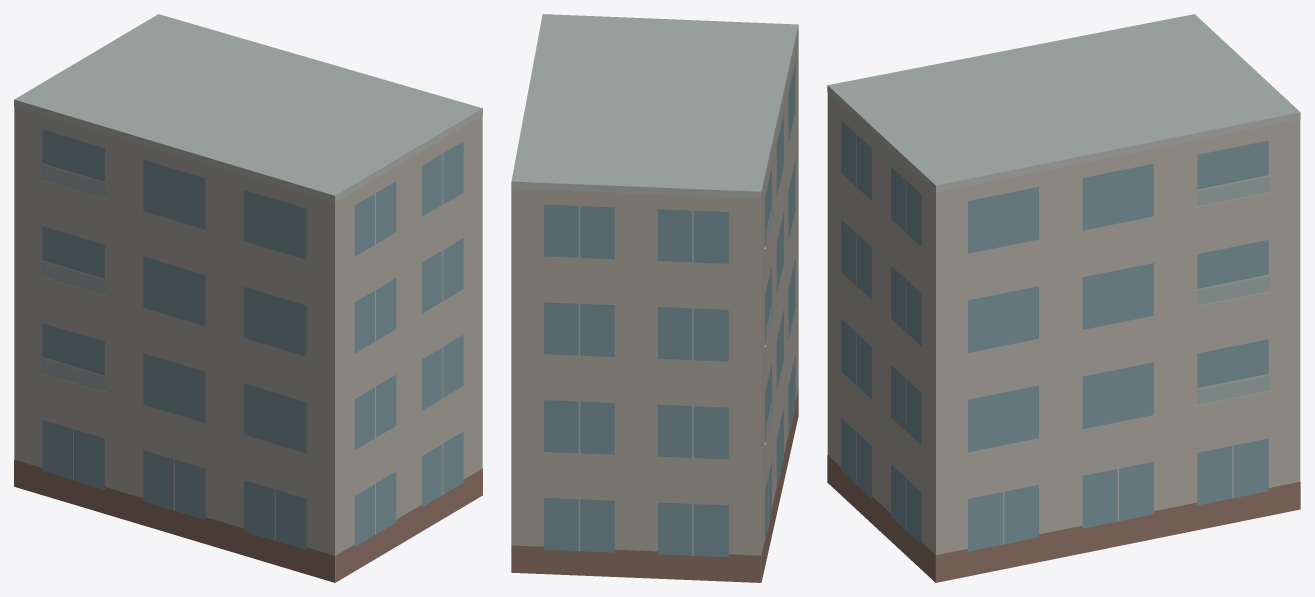
The model's file is survey-upis-32679465.glb.
3 views of the same model, side by side, from view 1: azimuth 30°, elevation 25°; view 2: azimuth 150°, elevation 25°; view 3: azimuth 270°, elevation 25° (orthographic). The views are drawn at different scales.
Visible parts, largest first — view 1: survey-upis-32679465.tmp; view 2: survey-upis-32679465.tmp; view 3: survey-upis-32679465.tmp.
Boxes of the visible parts, x1,y1,x2,y2 form: survey-upis-32679465.tmp: [14, 14, 482, 582]; survey-upis-32679465.tmp: [511, 14, 798, 582]; survey-upis-32679465.tmp: [827, 14, 1300, 582].
Size of the model in its own units: 12.51 by 13.5 by 14.58.
